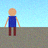person: (5, 8, 20, 35)
